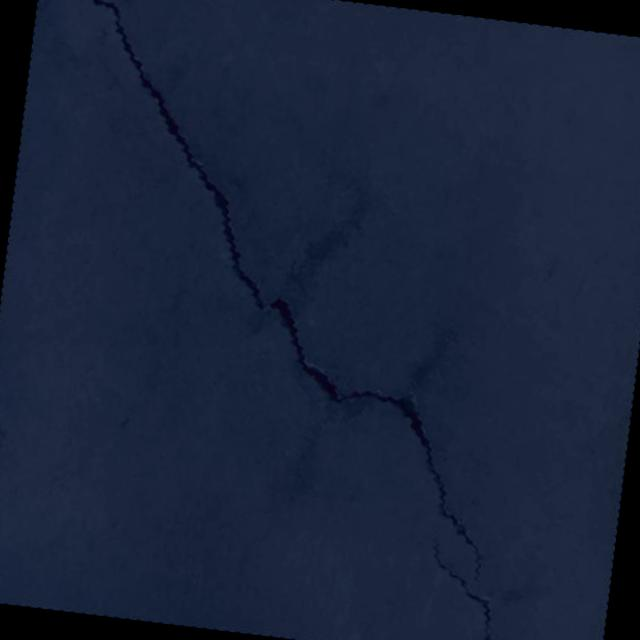crack: (0, 0, 549, 590), (417, 530, 524, 640)
